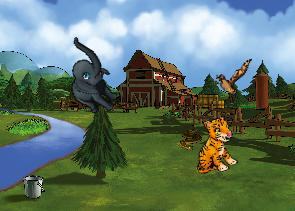eagle: (212, 55, 252, 105)
elephant: (46, 36, 135, 120)
tiger: (184, 114, 243, 179)
